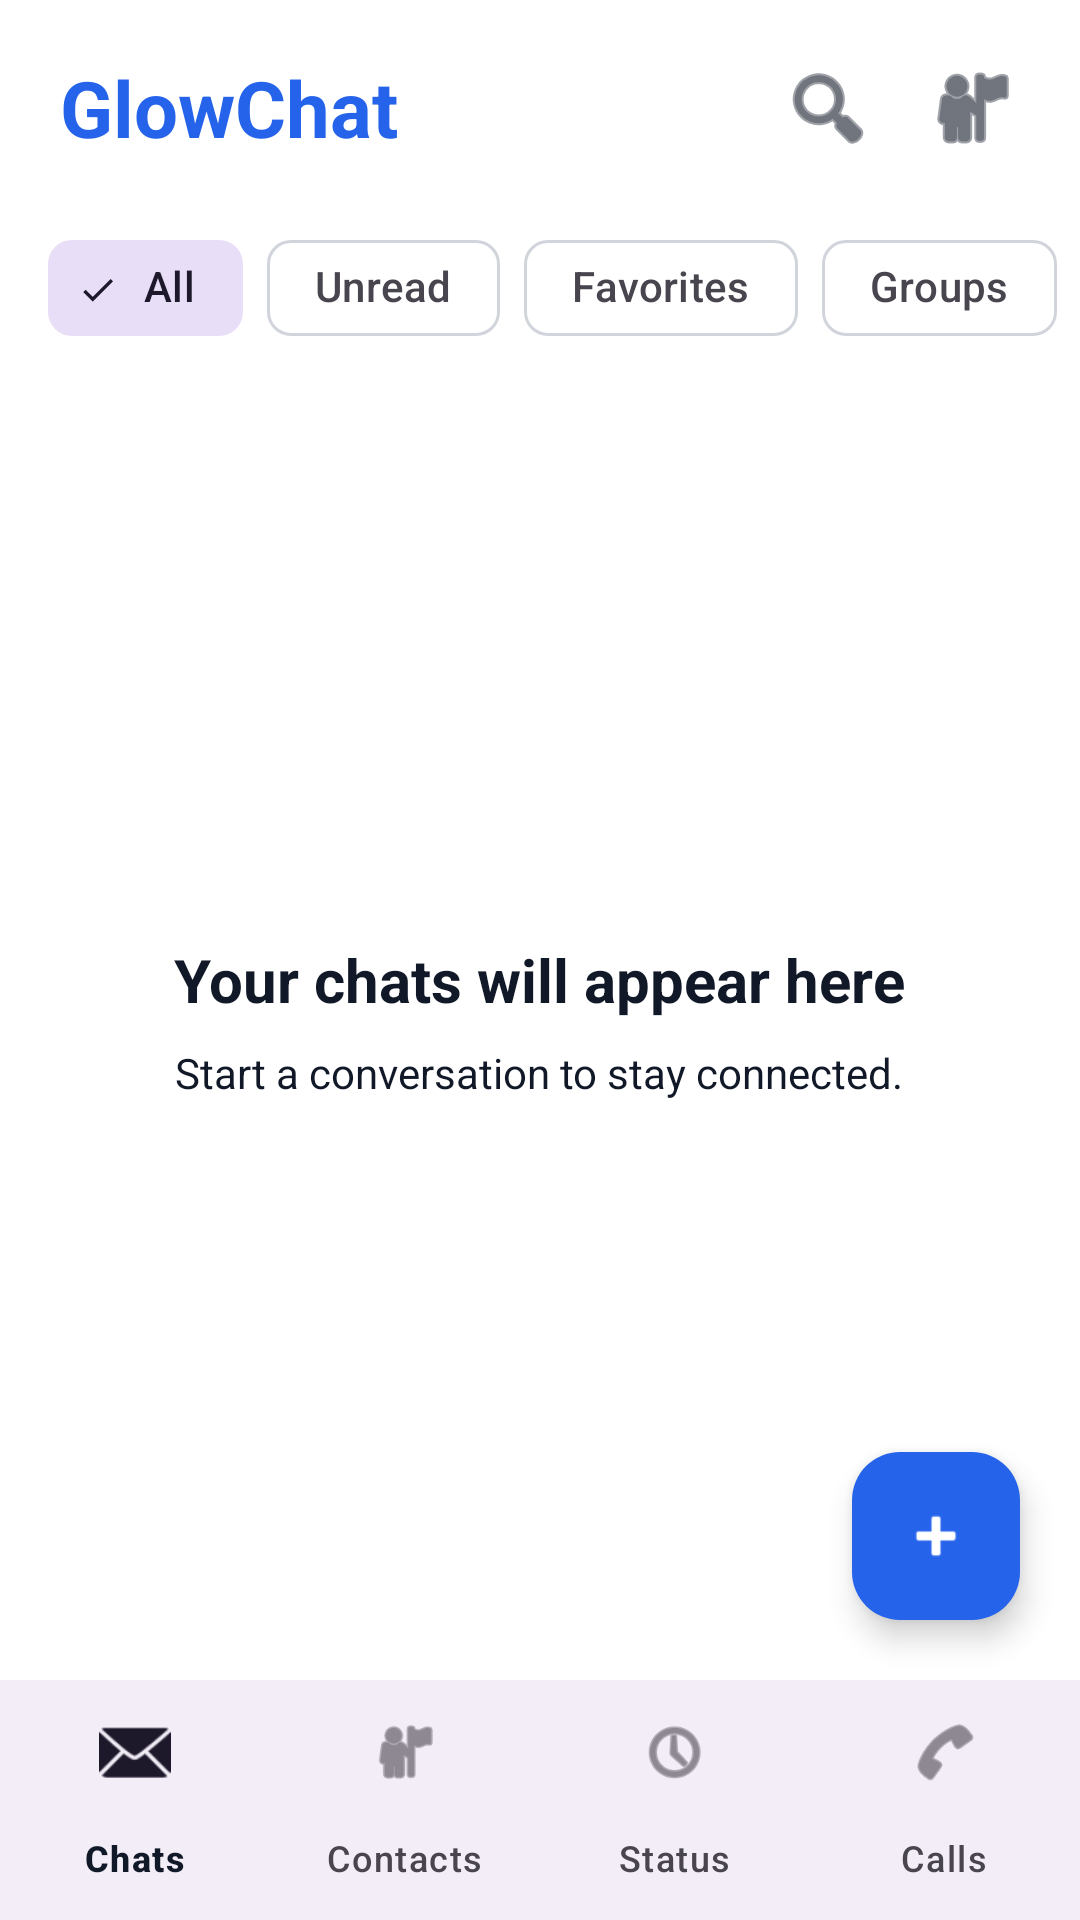

Icons on this 1080*1920 Android screen, each with its box as bbox(x1, y1, x2, y2):
New chat: bbox(852, 1452, 1020, 1620)
Profile and settings: bbox(937, 72, 1009, 144)
Search: bbox(792, 73, 864, 144)
